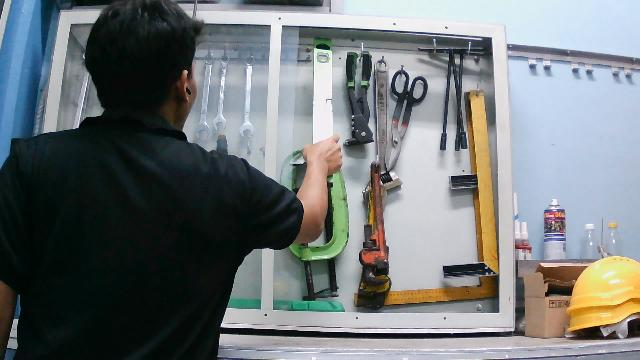water_pass: (304, 37, 337, 187)
